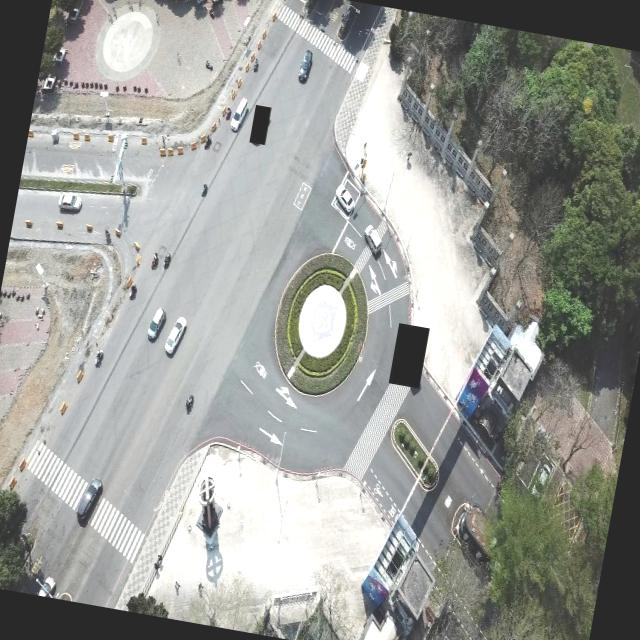bike: (183, 389, 196, 419), (90, 346, 104, 368), (148, 248, 160, 270), (161, 249, 173, 269), (199, 180, 208, 198)
car: (74, 474, 104, 525), (528, 458, 555, 508), (162, 314, 188, 356), (359, 222, 385, 258), (332, 181, 358, 216), (228, 95, 250, 133), (146, 306, 168, 342), (296, 48, 314, 83), (56, 190, 83, 213), (38, 573, 58, 597)
